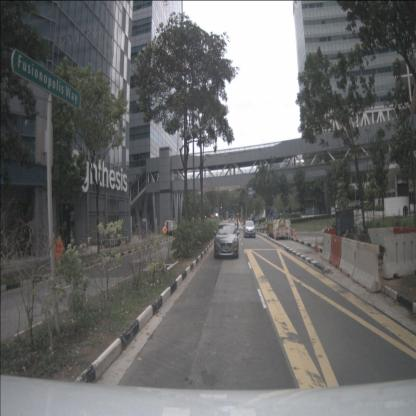barrier: (381, 231, 416, 279), (352, 240, 382, 292), (367, 226, 395, 256), (338, 237, 356, 278), (394, 225, 415, 257), (328, 234, 342, 269), (320, 233, 332, 262), (323, 228, 337, 248)
cone: (314, 236, 319, 253), (100, 238, 104, 250), (290, 226, 294, 237), (120, 235, 123, 247), (109, 236, 112, 248), (126, 235, 129, 246), (273, 230, 276, 240), (294, 228, 297, 238)
